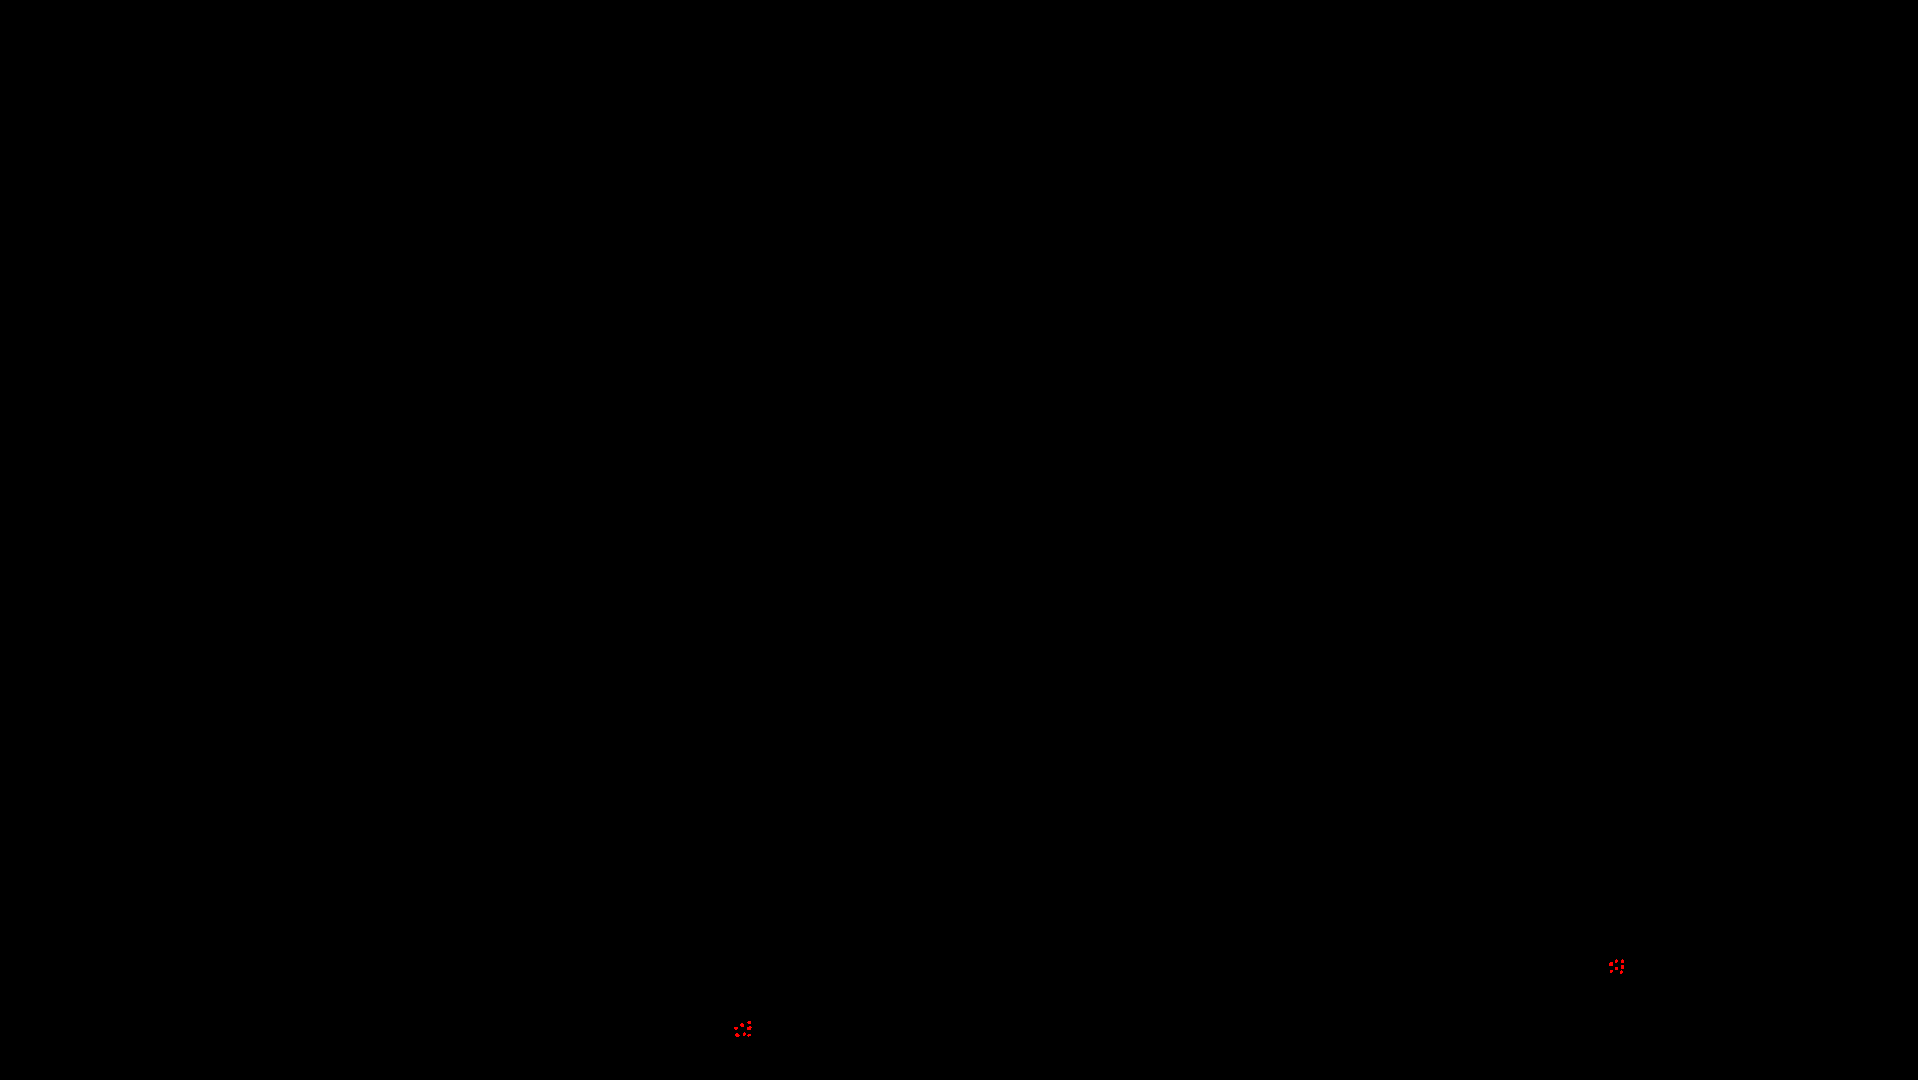Target: (747, 1026, 752, 1030), (735, 1033, 740, 1037), (1608, 961, 1612, 965), (740, 1023, 744, 1027), (1620, 969, 1623, 975), (1615, 959, 1618, 963), (1622, 959, 1624, 963), (1622, 965, 1624, 969), (1610, 969, 1612, 973), (747, 1021, 751, 1023), (734, 1027, 738, 1030), (743, 1033, 746, 1037), (747, 1034, 751, 1037), (1615, 967, 1618, 969)
